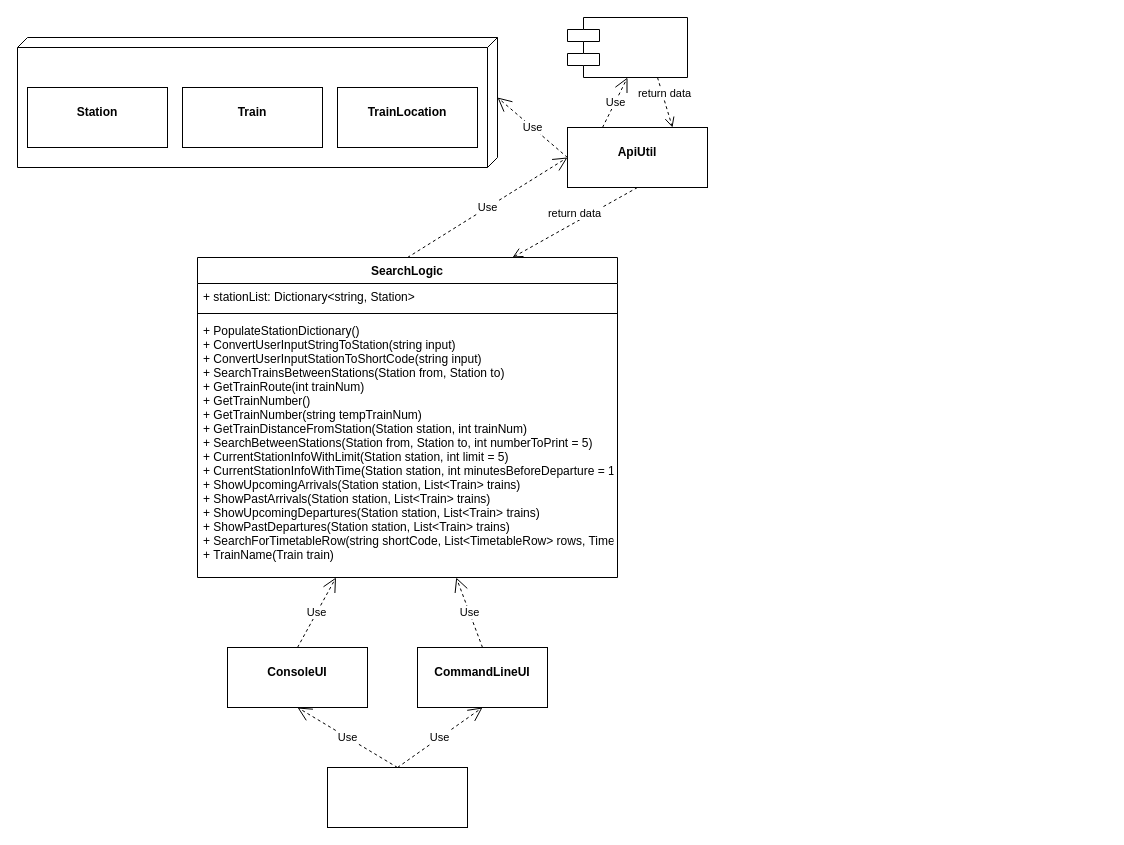
Some shapes in this 1124 by 845 pixel diagram are drawn without their labels. The box of each missing label's shape, as (x1, y1, x2, y2) in pixels:
Digitraffic-API: (566, 16, 688, 78)
Program: (326, 766, 468, 828)
RataDigitraffic.Model: (16, 36, 498, 168)
